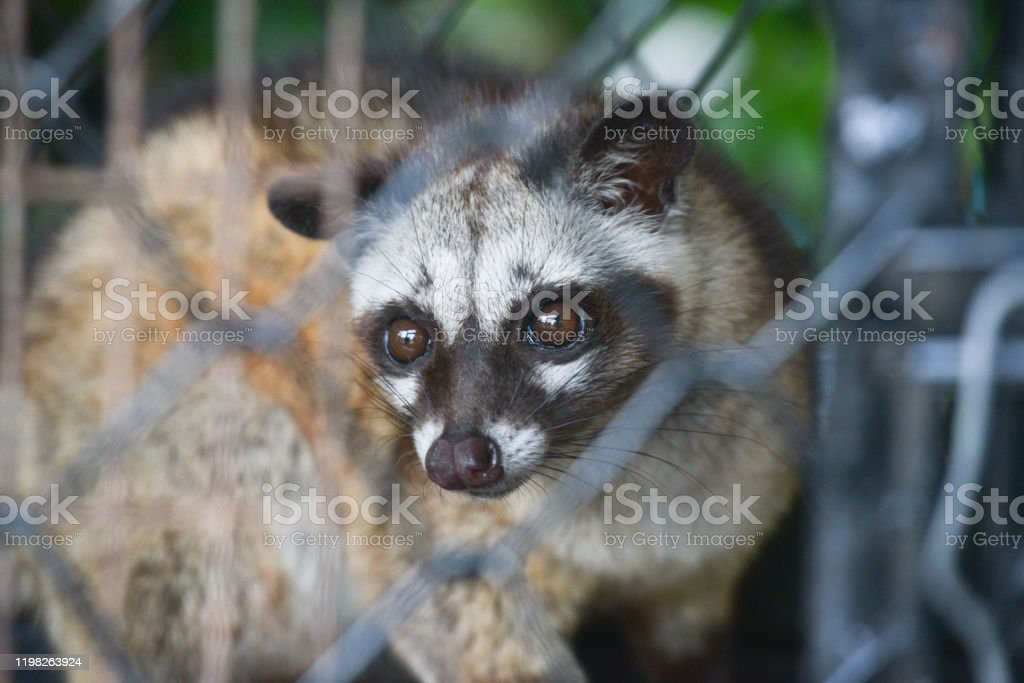Civet: (332, 130, 708, 518)
